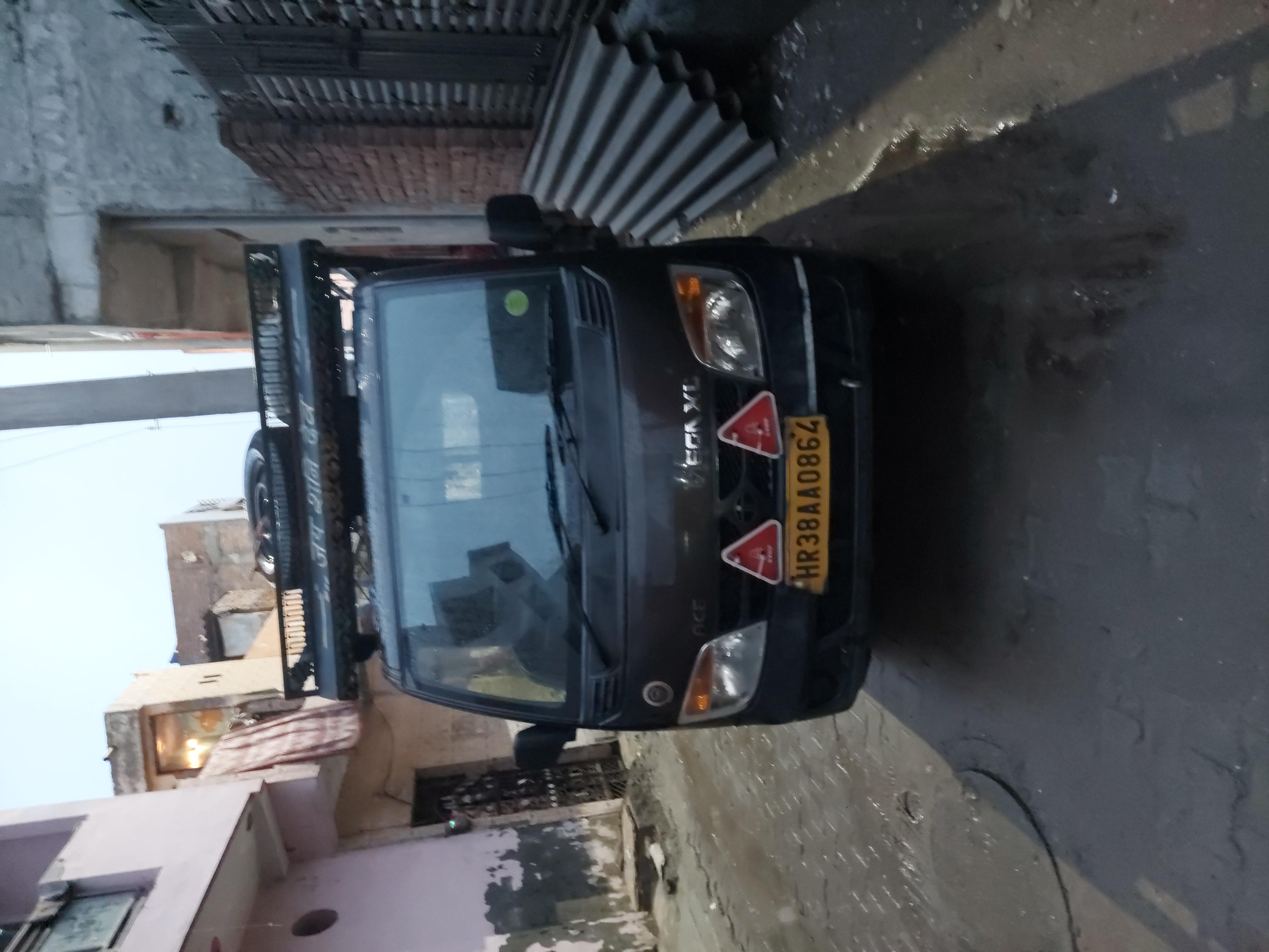number_plate: (474, 588, 716, 623)
